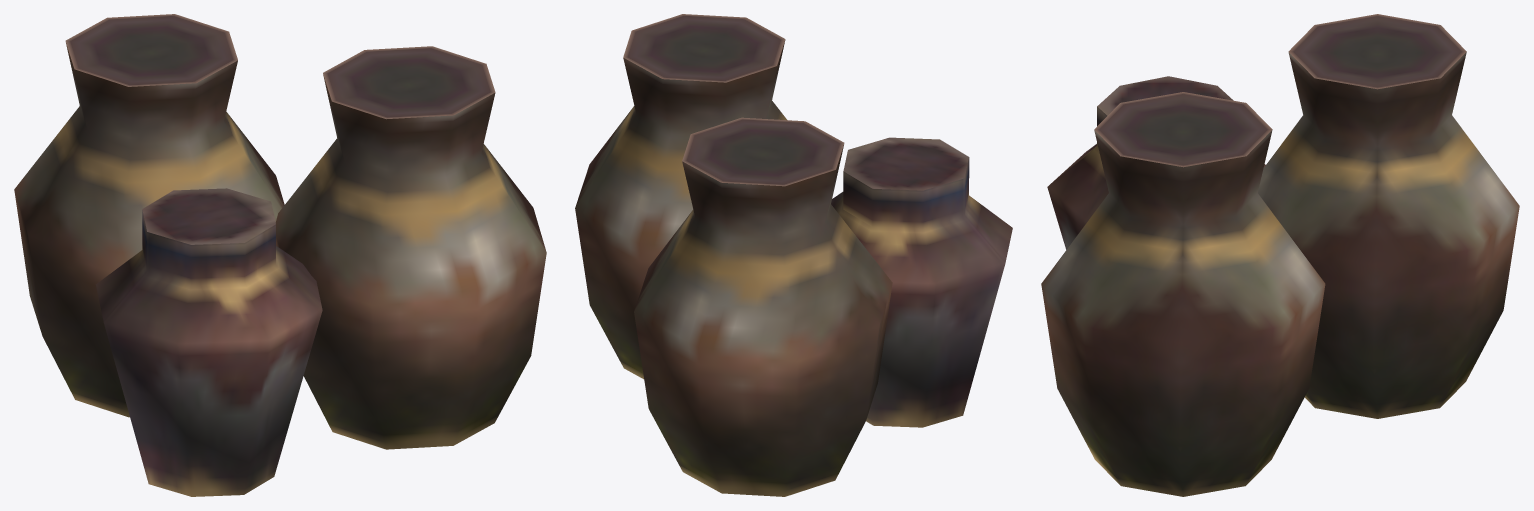
File: Area_09_36.fbx
3 views of the same model, side by side, from view 1: azimuth 30°, elevation 25°; view 2: azimuth 150°, elevation 25°; view 3: azimuth 270°, elevation 25° (orthographic). The views are drawn at different scales.
Parts seen in each view (by area): view 1: Area_09_36; view 2: Area_09_36; view 3: Area_09_36.
Part boxes in pixels (left/top/right/bottom): Area_09_36: left=14, top=14, right=546, bottom=496; Area_09_36: left=575, top=14, right=1012, bottom=496; Area_09_36: left=1041, top=14, right=1519, bottom=496.
Bounding box in the file's own units: 157 × 114 × 150.
Materials: 1 (1 with a texture image).
